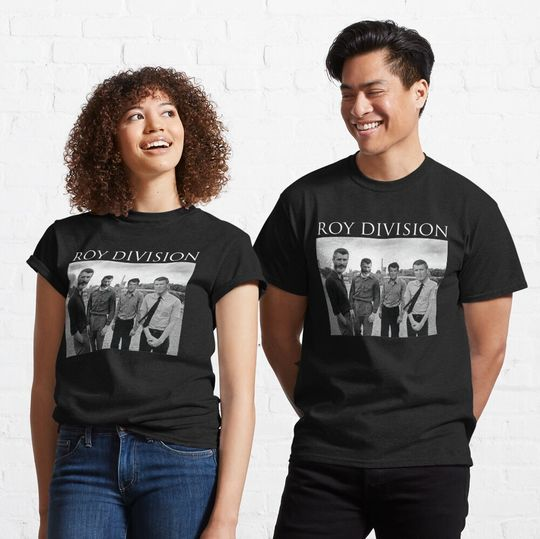design: (312, 219, 450, 340), (62, 246, 201, 360)
